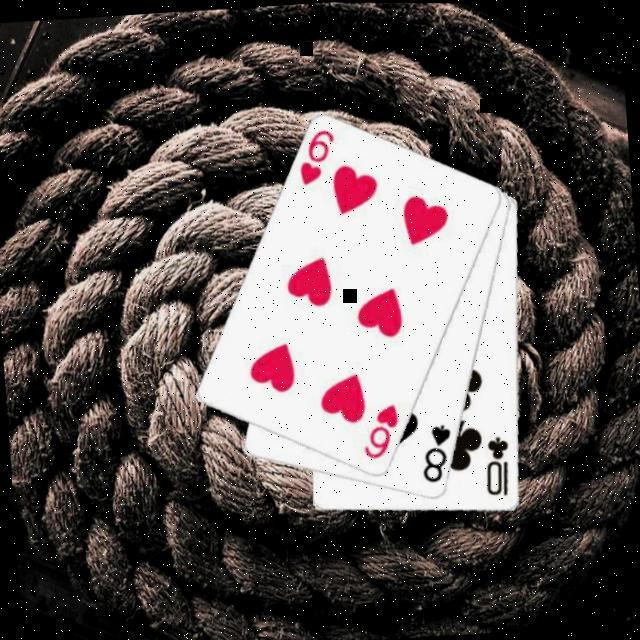10C: (478, 430, 514, 498)
6H: (292, 123, 338, 187), (356, 398, 402, 460)
8S: (413, 418, 455, 484)
